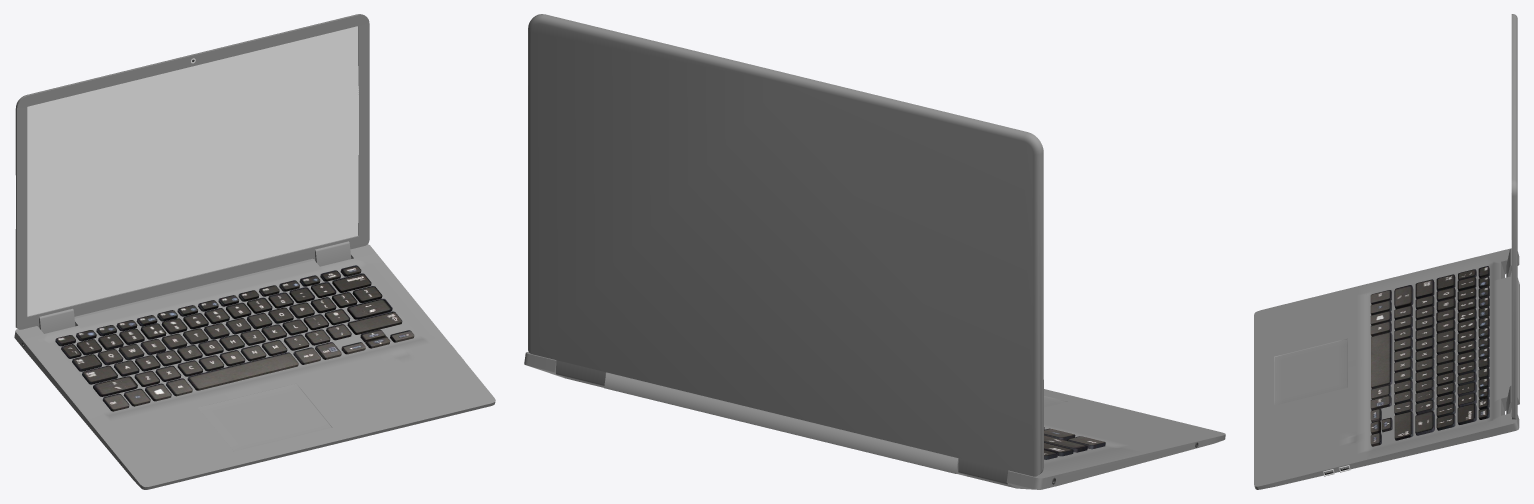
Rendered from Notebook3.glb.
The picture shows the model from 3 angles, left to right: view 1: azimuth 30°, elevation 25°; view 2: azimuth 150°, elevation 25°; view 3: azimuth 270°, elevation 25°; orthographic projection. The views are drawn at different scales.
Visible parts, largest first — view 1: Pantalla, Notebook, Teclado; view 2: Pantalla, Notebook, Teclado; view 3: Notebook, Teclado, Pantalla.
Boxes of the visible parts, left/top/right/bottom form: Pantalla: left=15, top=14, right=369, bottom=329; Notebook: left=14, top=241, right=495, bottom=489; Teclado: left=55, top=265, right=414, bottom=411; Pantalla: left=528, top=14, right=1043, bottom=476; Notebook: left=524, top=352, right=1225, bottom=489; Teclado: left=1044, top=427, right=1105, bottom=459; Notebook: left=1254, top=248, right=1519, bottom=489; Teclado: left=1370, top=266, right=1489, bottom=446; Pantalla: left=1511, top=14, right=1517, bottom=419.
Bounding box in the file's own units: 25.29 × 20.71 × 16.09.
Materials: 8 (1 with a texture image).
